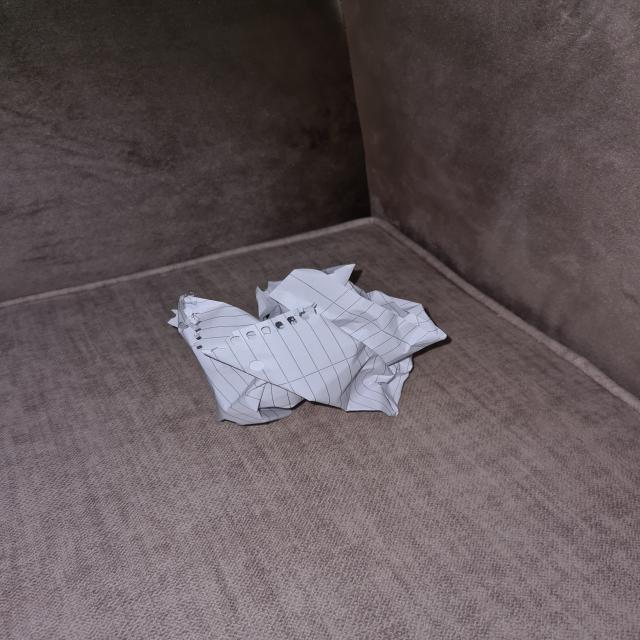Paper: (178, 262, 450, 423)
